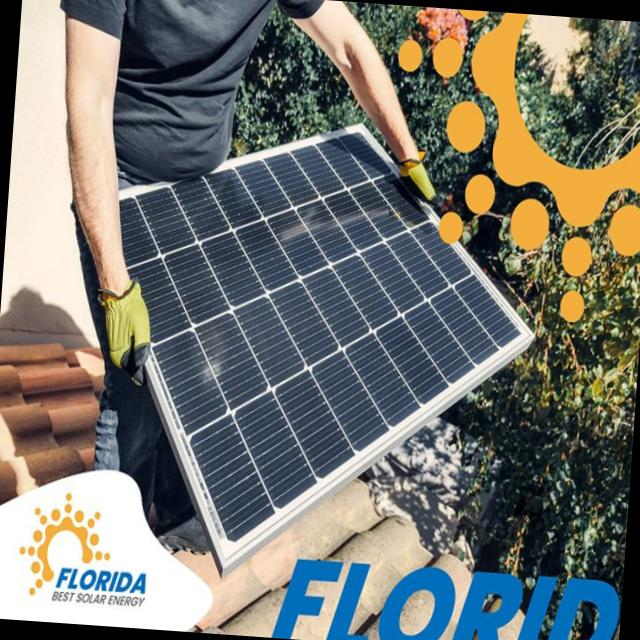no faulty: (134, 140, 513, 543)
